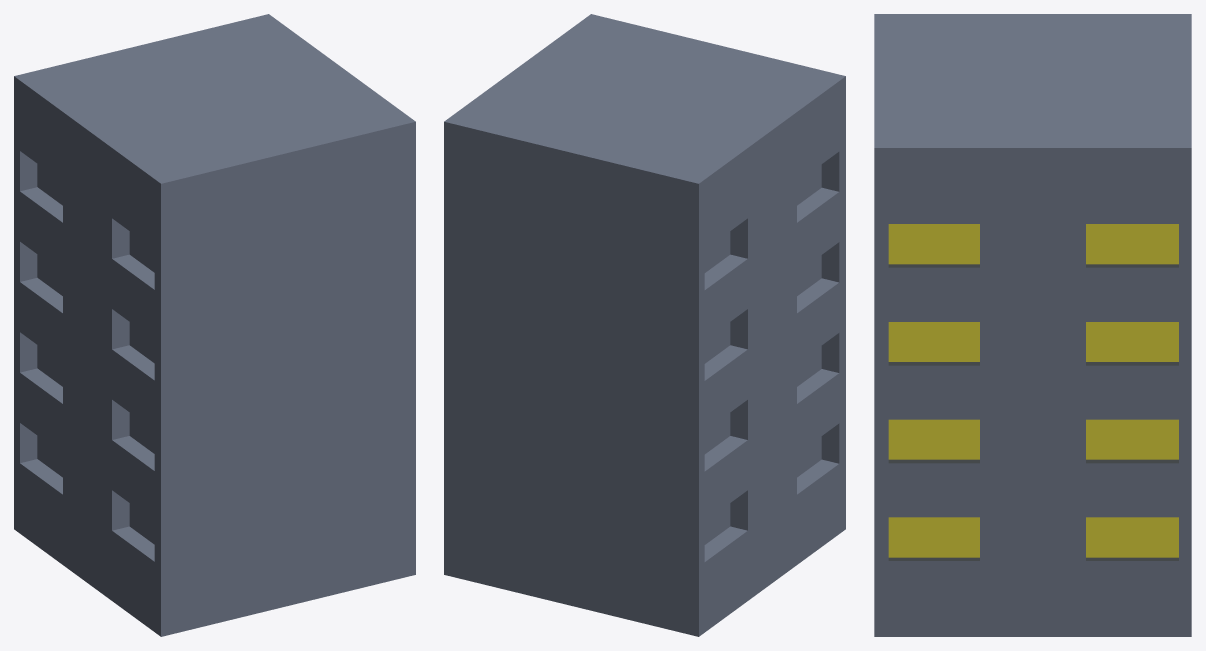
File: predio2.fbx
3 views of the same model, side by side, from view 1: azimuth 30°, elevation 25°; view 2: azimuth 150°, elevation 25°; view 3: azimuth 270°, elevation 25° (orthographic). The views are drawn at different scales.
Parts seen in each view (by area): view 1: Cube; view 2: Cube; view 3: Cube.
Part boxes in pixels (x1=…): Cube: x1=14, y1=14, x2=415, y2=636; Cube: x1=444, y1=14, x2=845, y2=636; Cube: x1=874, y1=14, x2=1191, y2=636.
Size of the model in its own units: 467 by 794 by 467.
